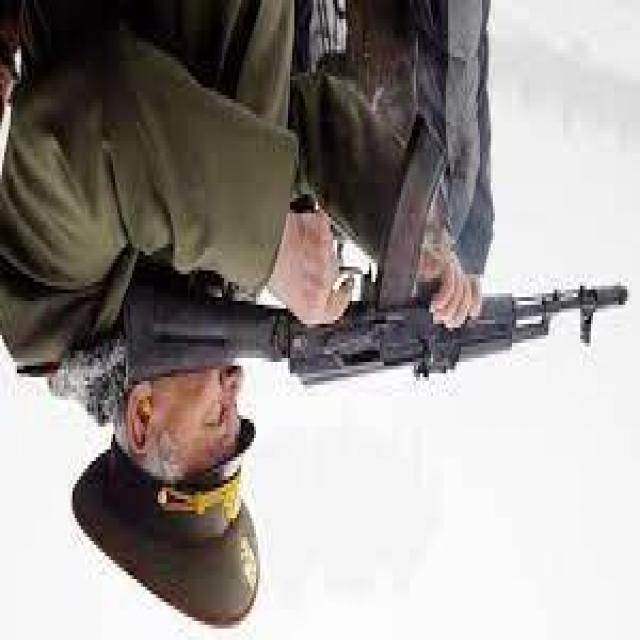weapon: (125, 112, 630, 393)
